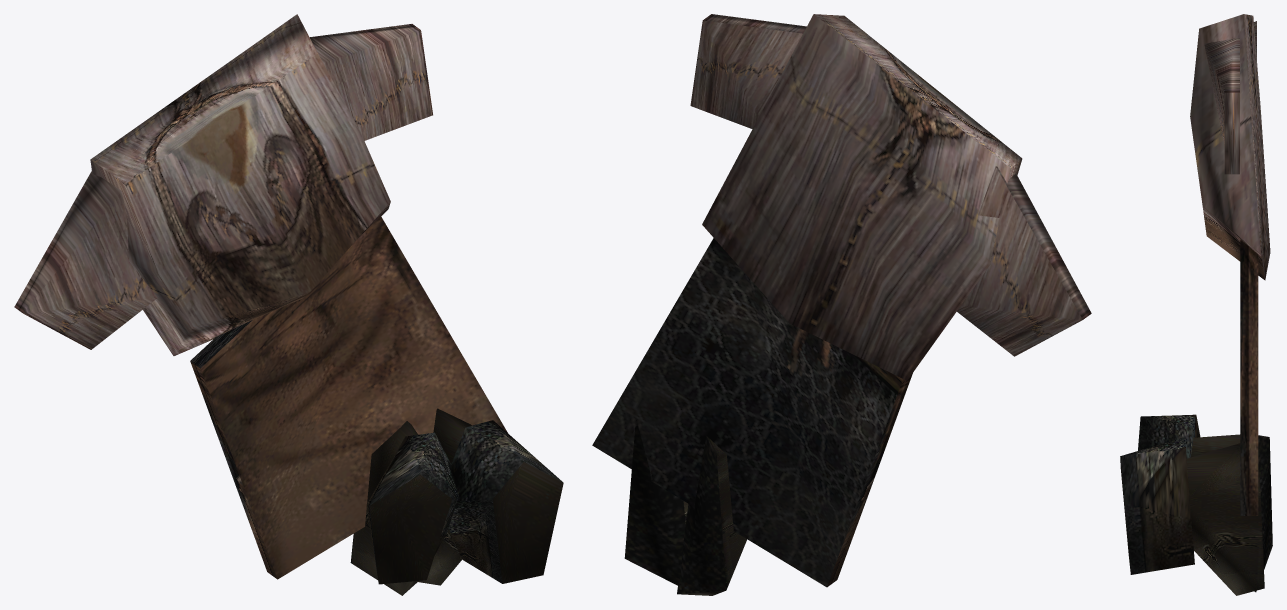
The picture shows the model from 3 angles, left to right: view 1: azimuth 30°, elevation 25°; view 2: azimuth 150°, elevation 25°; view 3: azimuth 270°, elevation 25°; orthographic projection. The views are drawn at different scales.
Parts seen in each view (by area): view 1: zm_Schmied; view 2: zm_Schmied; view 3: zm_Schmied.
Boxes of the visible parts, bbox=[...] form: zm_Schmied: bbox=[14, 14, 563, 595]; zm_Schmied: bbox=[592, 14, 1091, 595]; zm_Schmied: bbox=[1120, 14, 1272, 595].
Bounding box in the file's own units: 88.19 × 105 × 27.56.
